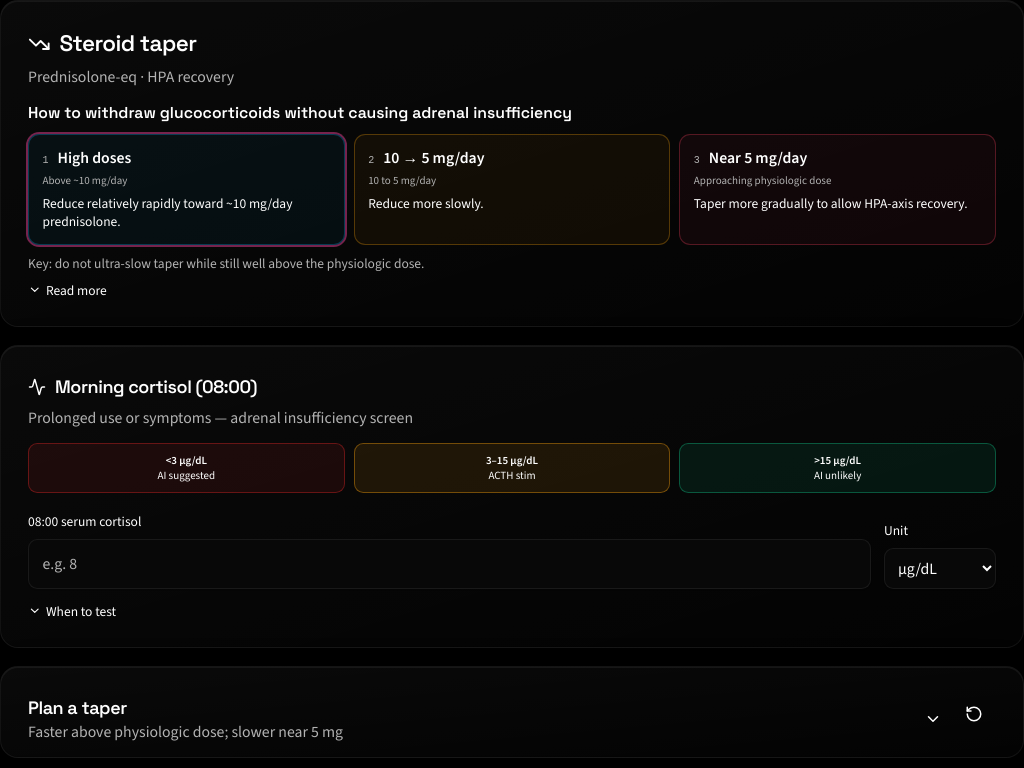
Steroid taper UI (progressive disclosure) › reveals HPA bottleneck rationale behind Read more
Click the heading "Read more" at (67, 290), box [28, 281, 107, 299]
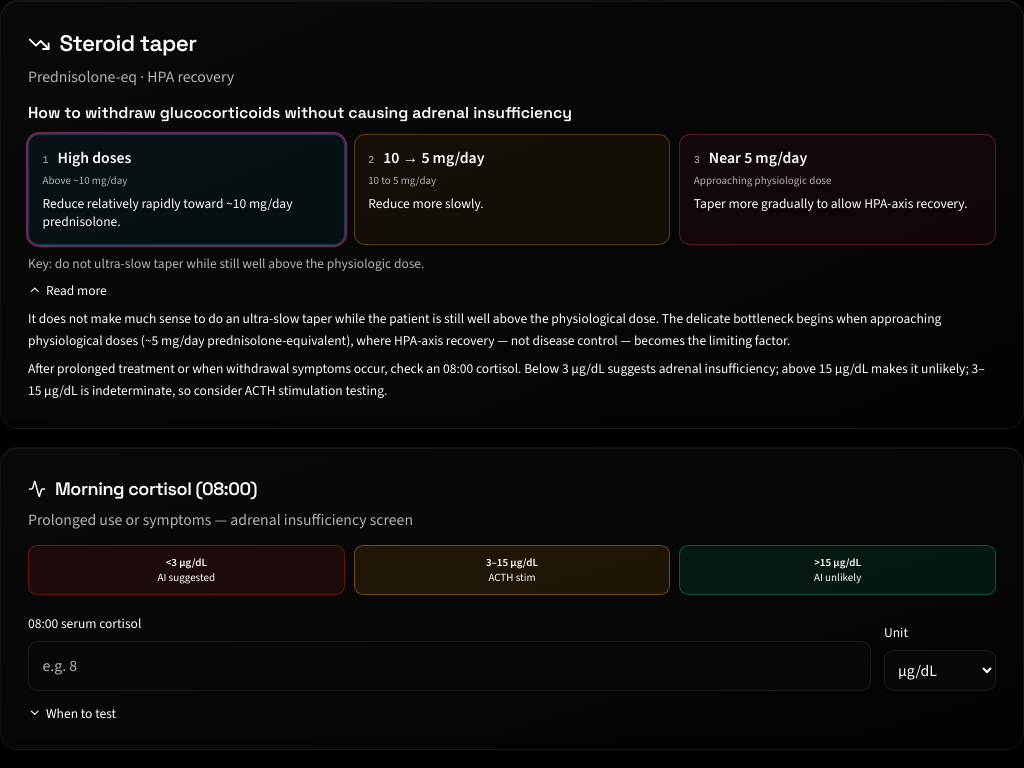
Result: the text "delicate bottleneck" is shown at [28, 309, 941, 349]
